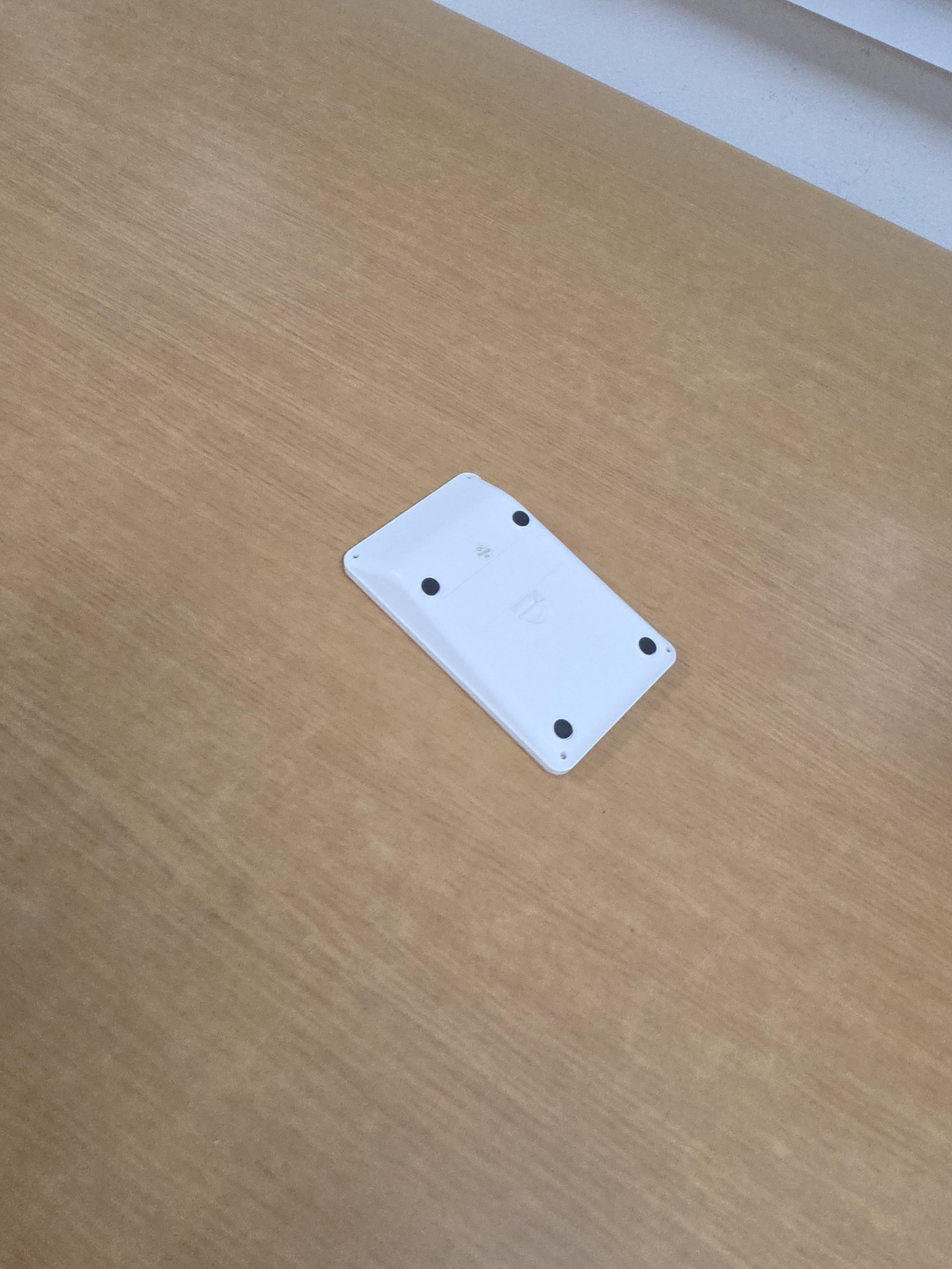calculator: (343, 471, 678, 776)
